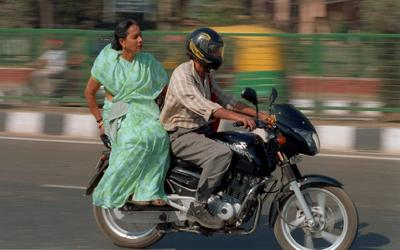With Helmet: (181, 25, 229, 70)
